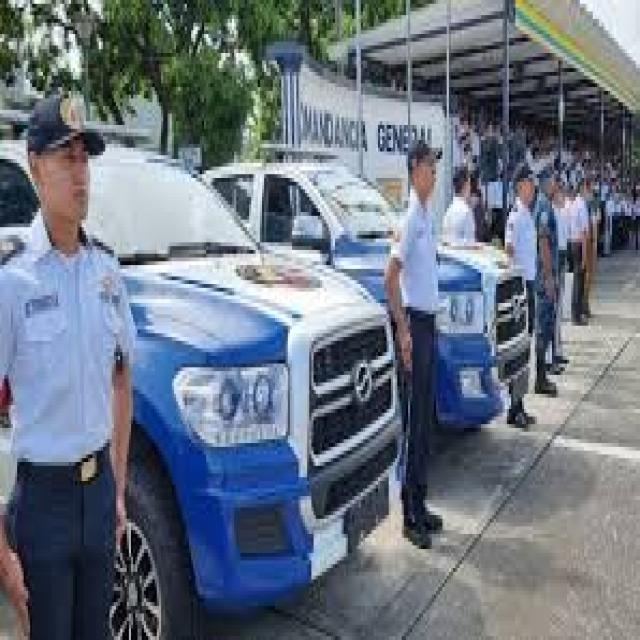CMT: (7, 152, 417, 631)
